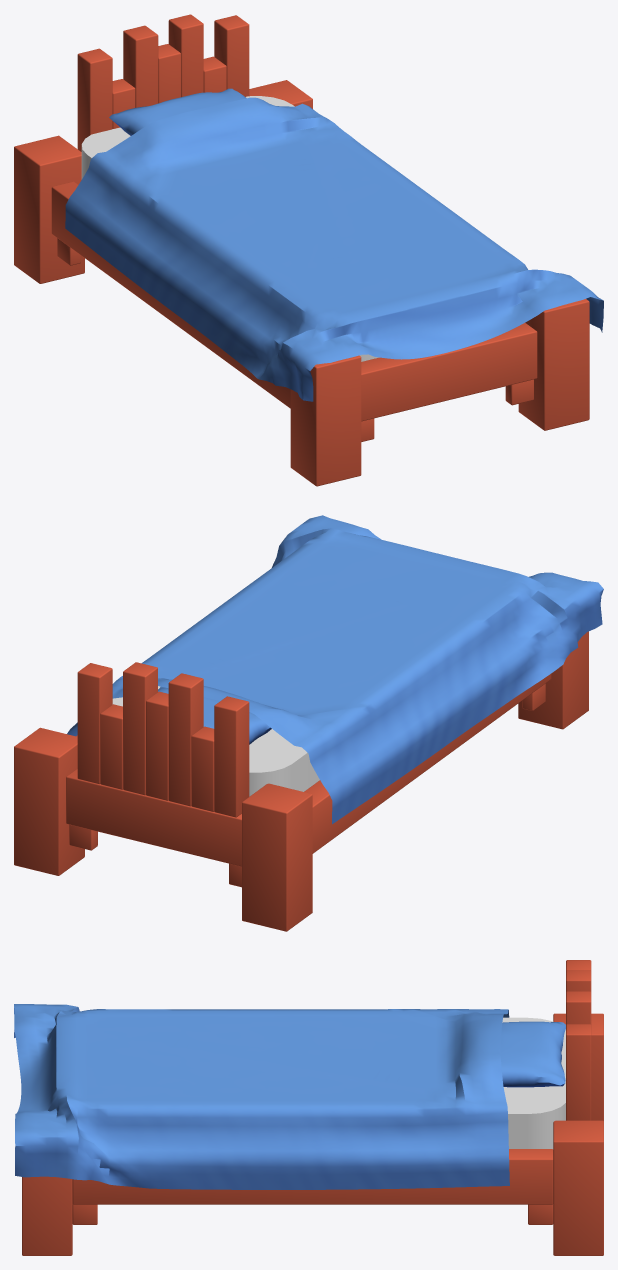
The model's file is Bed.fbx.
3 renders of one model, top to bottom at view 1: azimuth 30°, elevation 25°; view 2: azimuth 150°, elevation 25°; view 3: azimuth 270°, elevation 25°, orthographic. The views are drawn at different scales.
Parts seen in each view (by area): view 1: Bed; view 2: Bed; view 3: Bed.
Part boxes in pixels (x1,y1,x2,y2): Bed: (14, 14, 603, 486); Bed: (14, 515, 603, 931); Bed: (14, 960, 603, 1255).
Size of the model in its own units: 1.34 by 0.9 by 2.33.
Materials: 4 (1 with a texture image).
